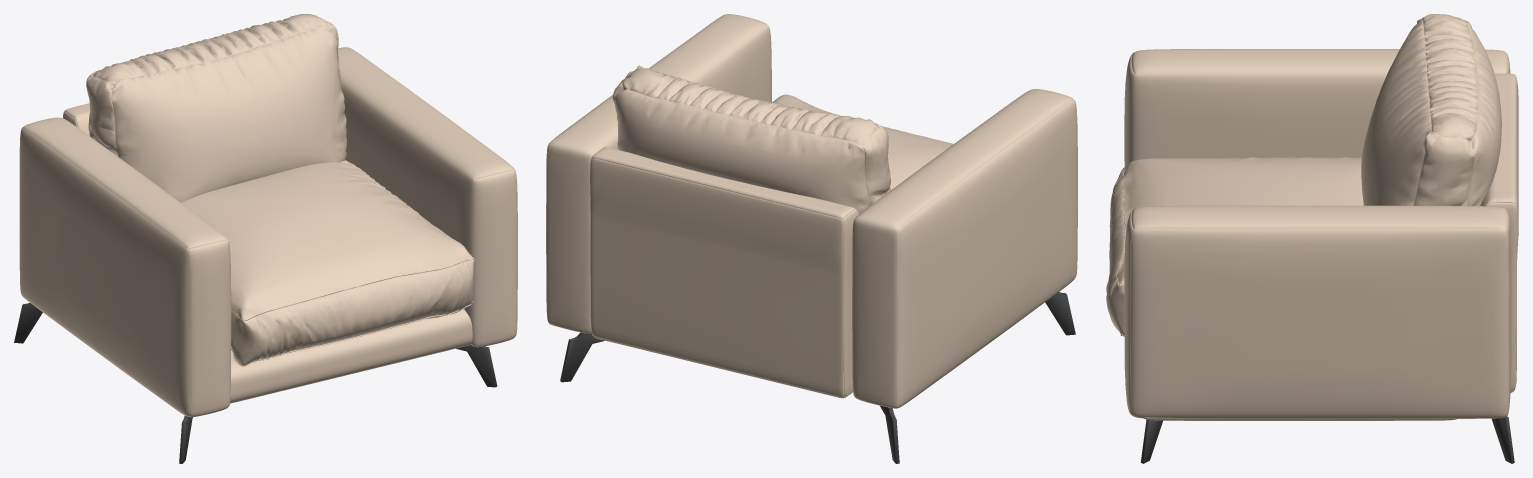
Rendered from armchair_wood.glb.
The picture shows the model from 3 angles, left to right: view 1: azimuth 30°, elevation 25°; view 2: azimuth 150°, elevation 25°; view 3: azimuth 270°, elevation 25°; orthographic projection. The views are drawn at different scales.
Parts seen in each view (by area): view 1: Sofa Chair; view 2: Sofa Chair; view 3: Sofa Chair.
Part boxes in pixels (x1=…): Sofa Chair: x1=14, y1=14, x2=517, y2=463; Sofa Chair: x1=546, y1=14, x2=1077, y2=463; Sofa Chair: x1=1106, y1=14, x2=1518, y2=463.
Bounding box in the file's own units: 0.95 × 0.7466 × 0.886.
